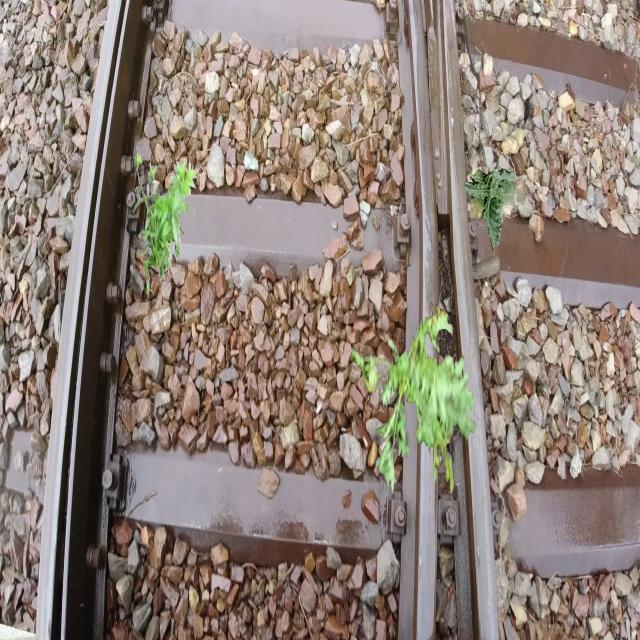Plant: (352, 302, 477, 498), (133, 151, 198, 294), (463, 168, 526, 251)
